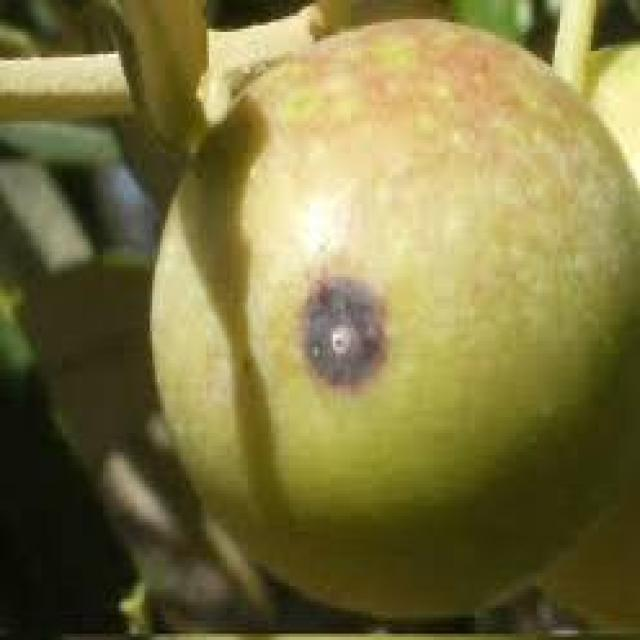Olive Fruit Fly: (152, 19, 637, 625)
